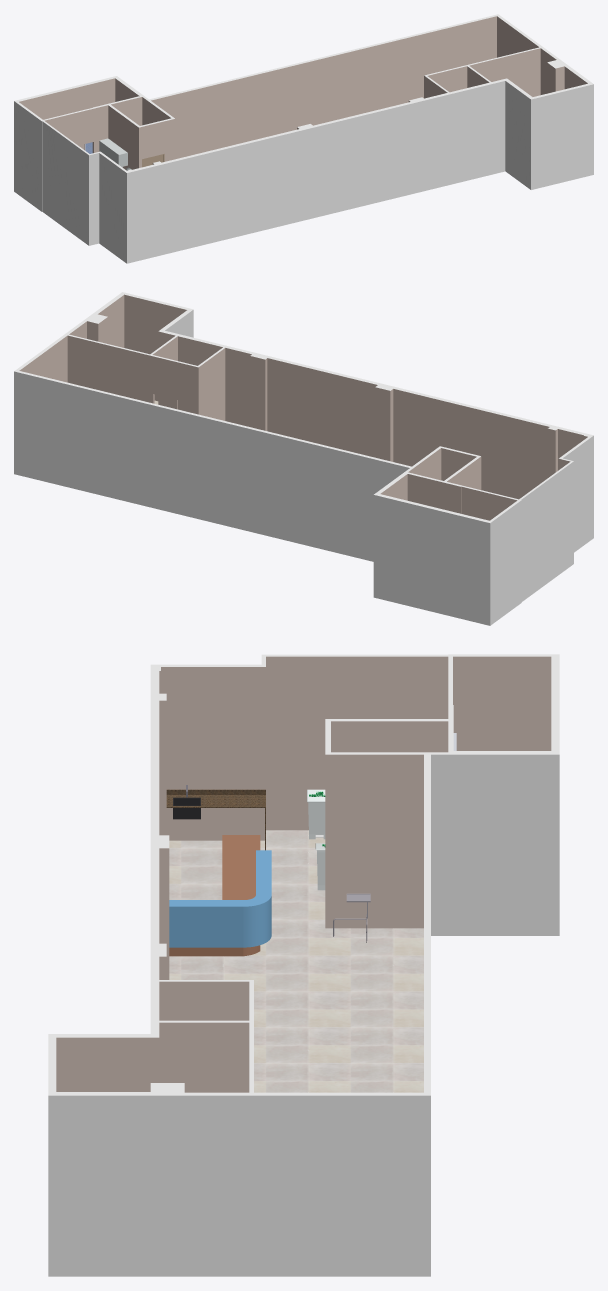
The model's file is Uti neonatal.dae.
The picture shows the model from 3 angles, top to bottom: view 1: azimuth 30°, elevation 25°; view 2: azimuth 150°, elevation 25°; view 3: azimuth 270°, elevation 25°; orthographic projection. The views are drawn at different scales.
Visible parts, largest first — view 1: Alvenaria (×2), Piso; view 2: Alvenaria (×2), Piso; view 3: Alvenaria (×2), Piso (×2), Bancada_atendimento (×2), Bancada_02.
Boxes of the visible parts, left/top/right/bottom form: Alvenaria (×2): left=14, top=14, right=593, bottom=259; Piso: left=14, top=167, right=593, bottom=263; Alvenaria (×2): left=14, top=292, right=593, bottom=621; Piso: left=14, top=470, right=593, bottom=625; Alvenaria (×2): left=48, top=654, right=559, bottom=1268; Piso (×2): left=48, top=830, right=559, bottom=1276; Bancada_atendimento (×2): left=169, top=835, right=271, bottom=956; Bancada_02: left=166, top=789, right=265, bottom=850.
Bounding box in the file's own units: 730 × 357 × 140.
